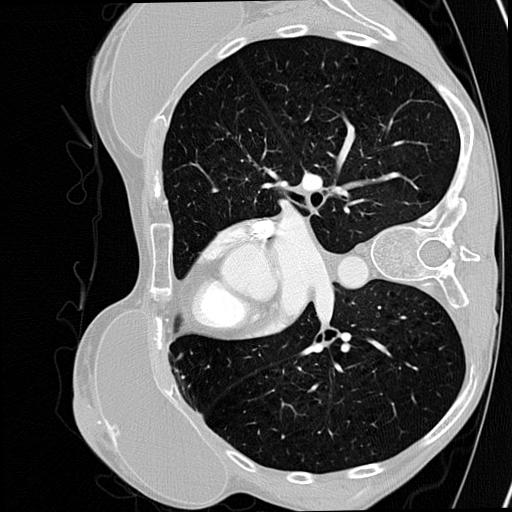nodule: (338, 340, 353, 355)
